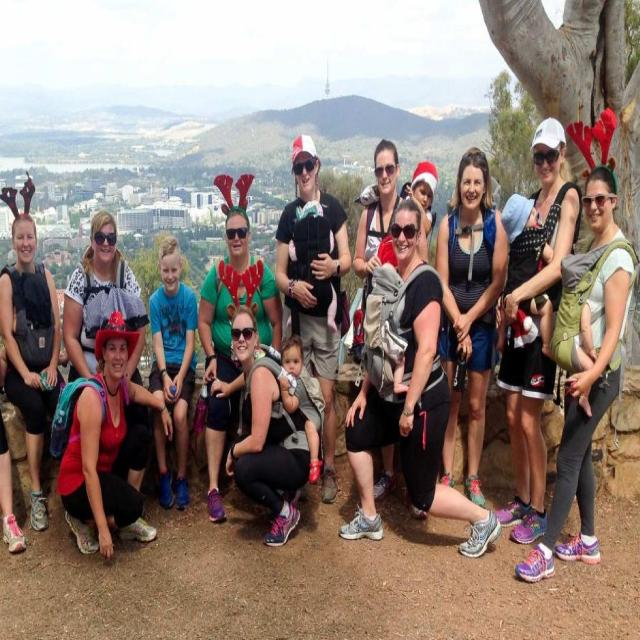body: (336, 193, 504, 560), (514, 159, 639, 585), (494, 118, 584, 550), (46, 309, 175, 556), (270, 131, 354, 510), (196, 172, 284, 526), (434, 146, 510, 509), (208, 302, 312, 548), (0, 168, 64, 537), (61, 209, 150, 432), (144, 232, 200, 514), (492, 189, 564, 363), (352, 138, 431, 282), (284, 196, 340, 334), (278, 336, 328, 486), (0, 404, 29, 558), (404, 159, 440, 241)
